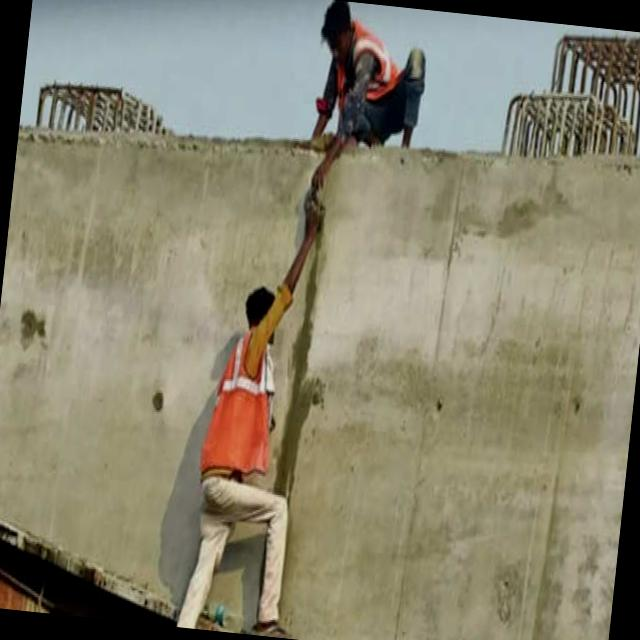no-helmet: (239, 272, 287, 331), (313, 0, 354, 55)
vest: (200, 326, 286, 479), (342, 20, 406, 120)
